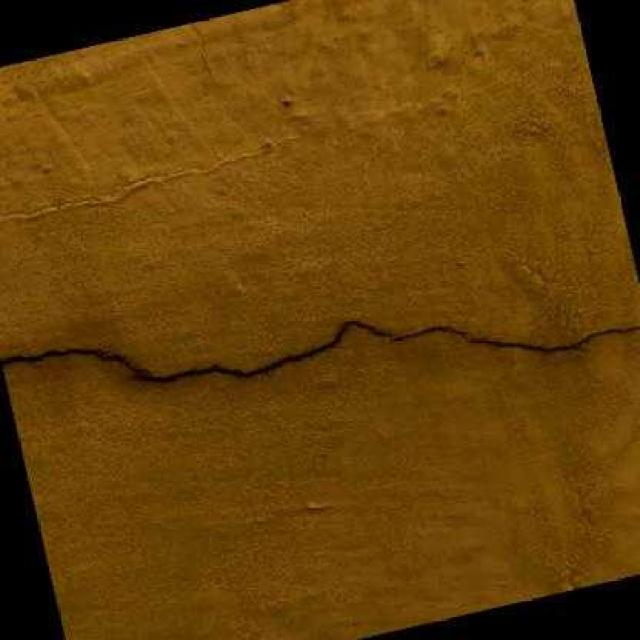D00: (125, 317, 476, 381), (468, 323, 640, 351), (0, 346, 152, 372)
